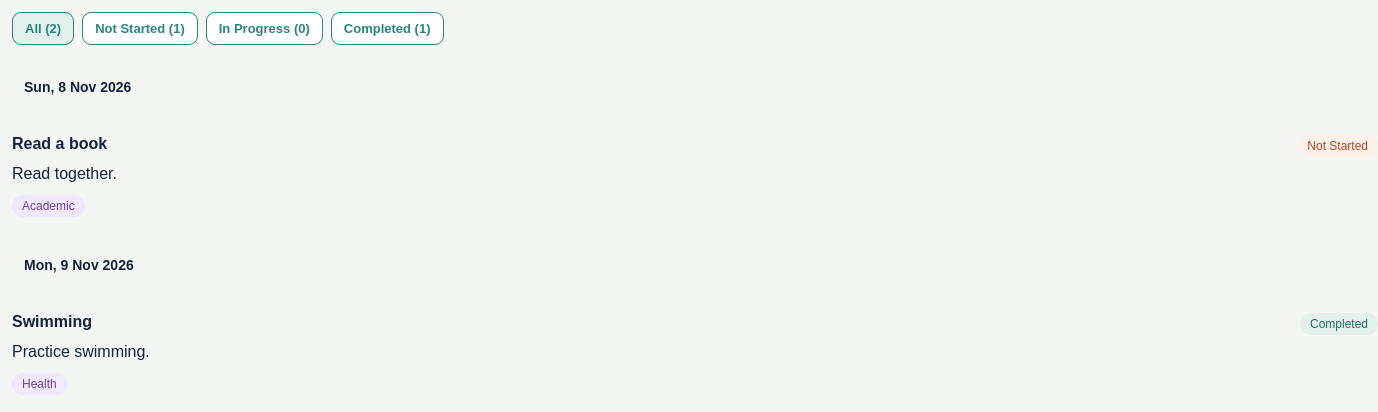
Test: filters by status, displays counts and handles an empty filter
Check: the heading "Read a book" is shown, box [12, 135, 107, 152]
Click the button "Completed (1)": (387, 28) [331, 12, 444, 45]
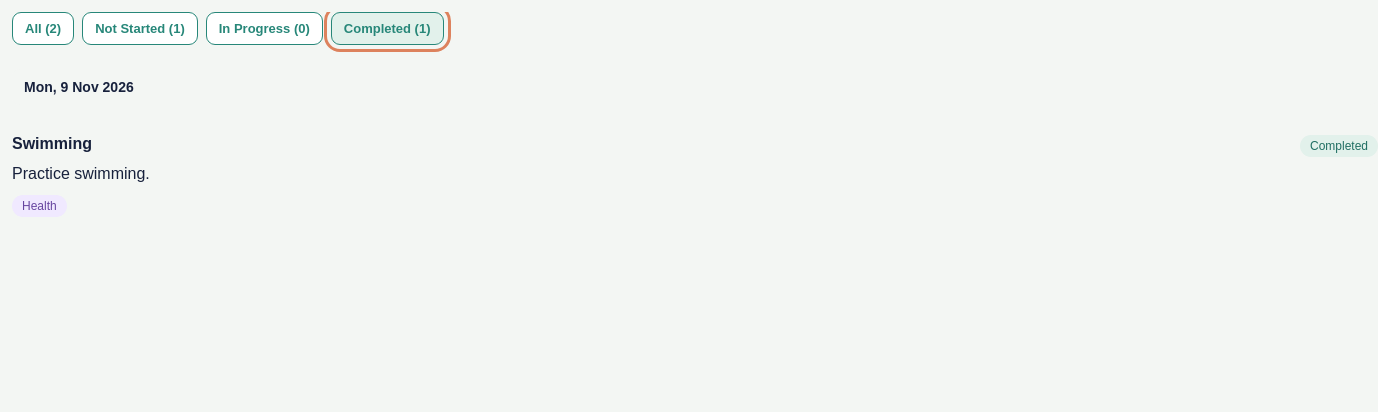
Check: the heading "Swimming" is shown, box [12, 135, 92, 152]
Check: the heading "Read a book" is gone
Click the button "In Progress (0)": (264, 28) [206, 12, 323, 45]
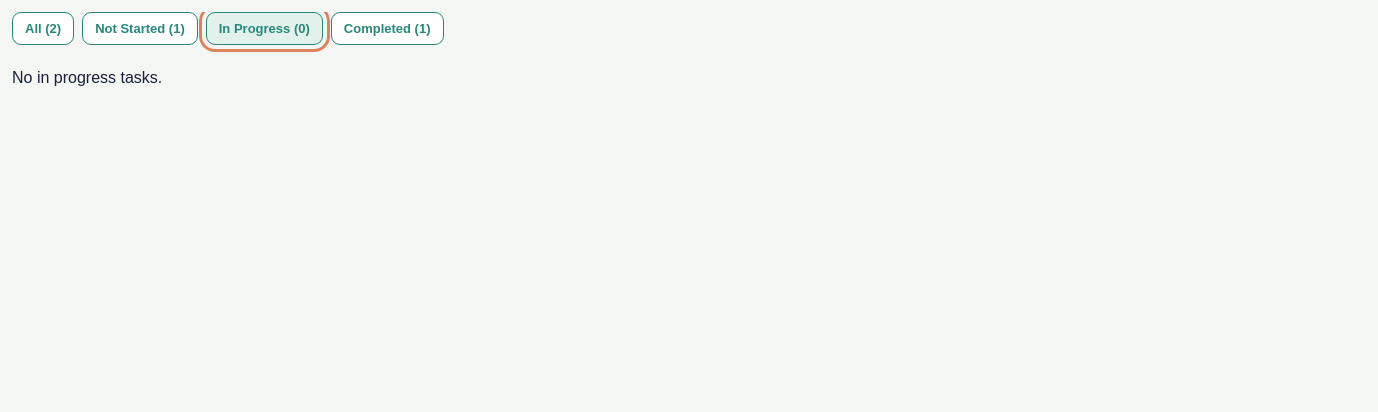
Check: the text "No in progress tasks." is shown, box [12, 69, 162, 86]
Click the button "All (2)": (43, 28) [12, 12, 74, 45]
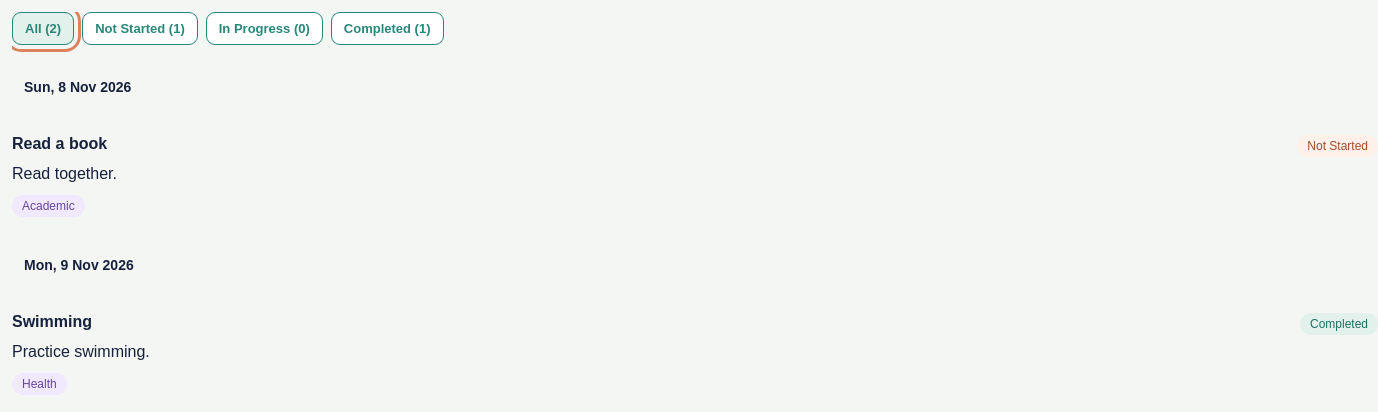
Check: the heading "Read a book" is shown, box [12, 135, 107, 152]
